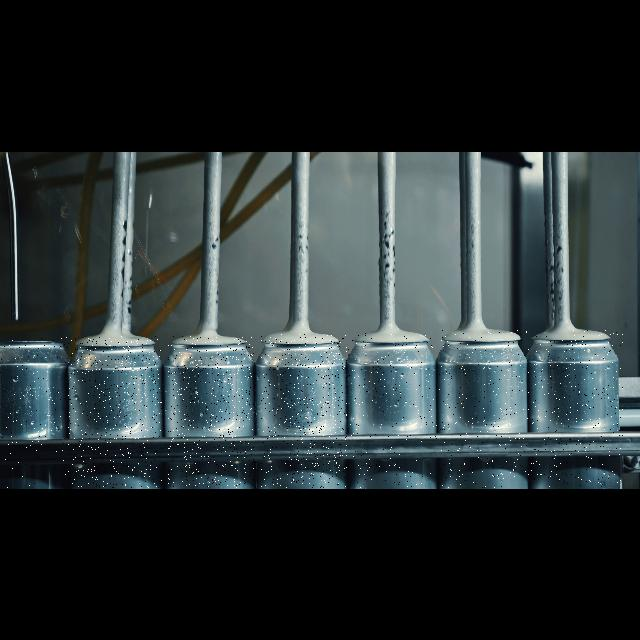empty: (0, 336, 68, 488)
full: (531, 330, 623, 488), (68, 336, 162, 488), (439, 330, 529, 488), (348, 332, 438, 488), (261, 334, 347, 488), (168, 336, 254, 488)
